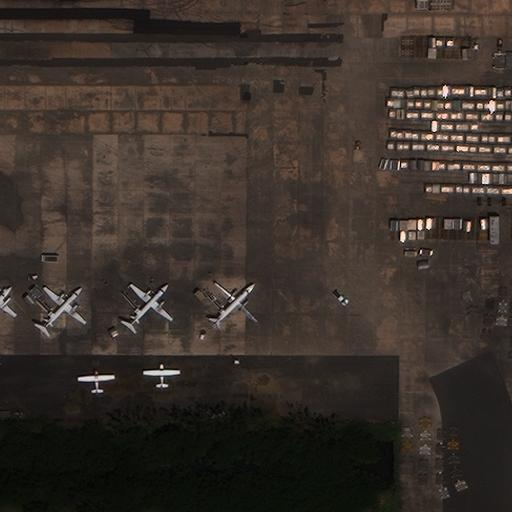Medium Civil Transport: (41, 286, 86, 331), (127, 283, 172, 327), (213, 281, 258, 324)
Small Civil Transport: (143, 364, 179, 390), (78, 370, 114, 393), (0, 285, 15, 316)
